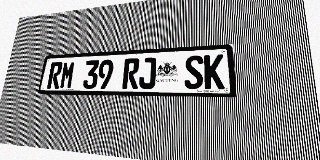3: (82, 60, 100, 89)
9: (97, 59, 114, 89)
J: (138, 57, 156, 89)
K: (204, 54, 225, 89)
M: (59, 61, 76, 89)
R: (122, 58, 140, 89), (47, 62, 63, 89)
S: (184, 55, 203, 89)
